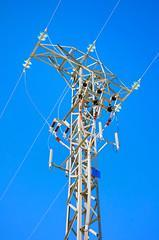power_tower: (26, 34, 141, 240)
